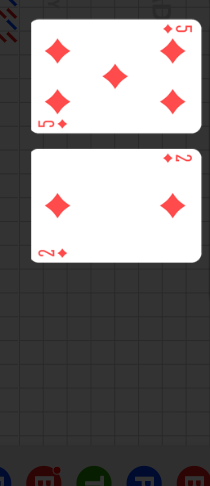2D: (36, 247, 69, 259)
9D: (36, 118, 69, 130)
